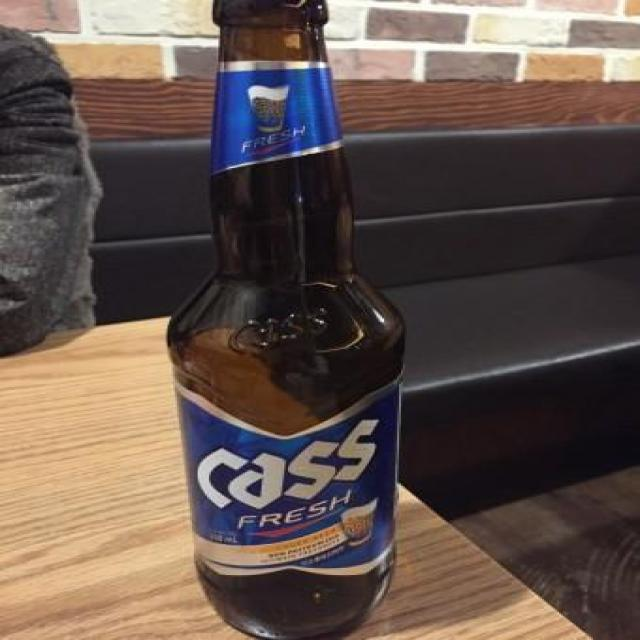beer-bottle: (157, 0, 411, 640)
